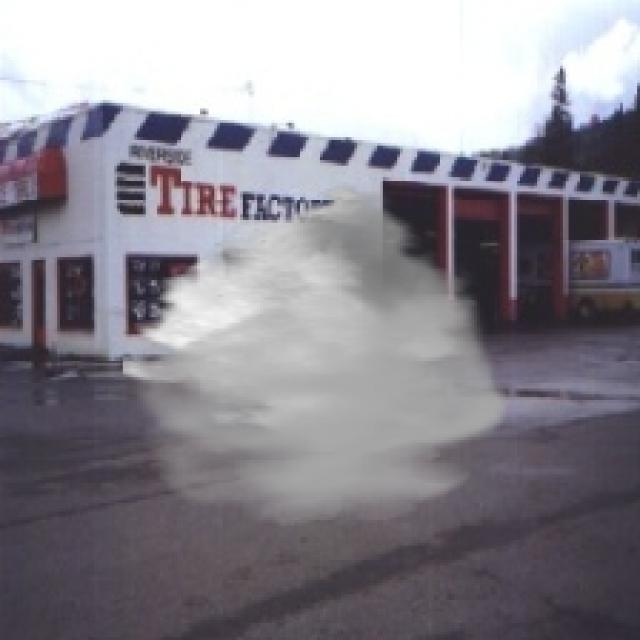smoke: (123, 183, 514, 526)
